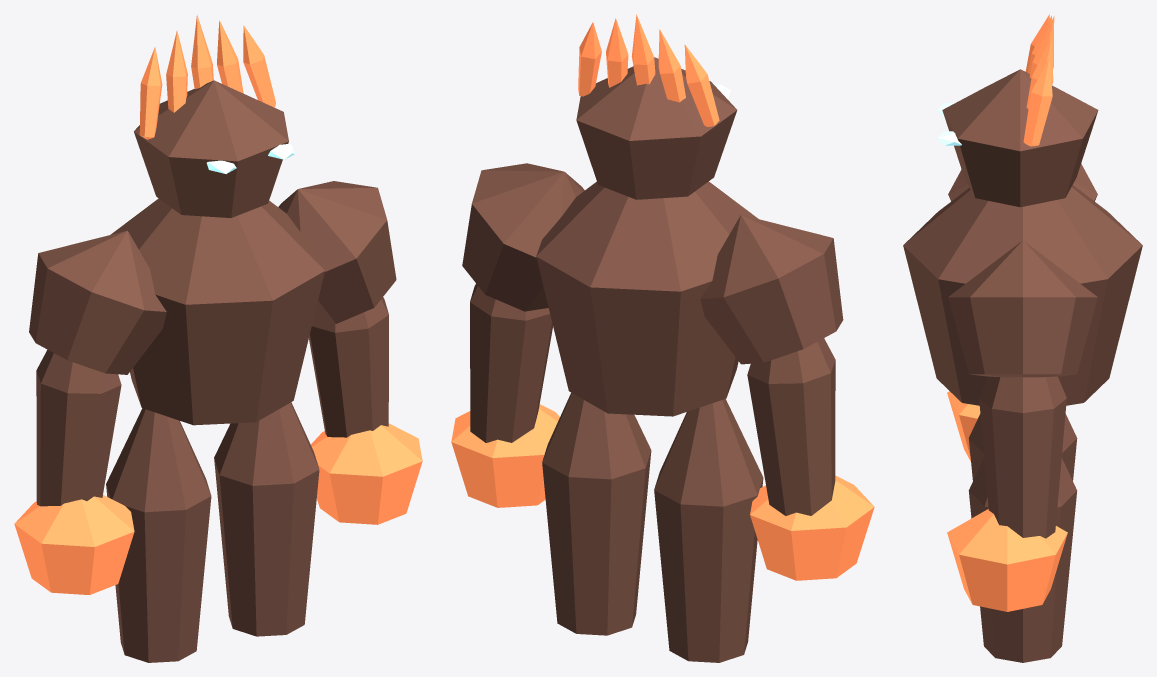
File: deep-fracture-creature-StoneGuardian-fire.glb
3 renders of one model, left to right at view 1: azimuth 30°, elevation 25°; view 2: azimuth 150°, elevation 25°; view 3: azimuth 270°, elevation 25°, orthographic. The views are drawn at different scales.
Parts seen in each view (by area): view 1: fortress-chest, gate-leg-left, gate-leg-right, crown, shoulder-left, pillar-arm-left, shoulder-right, fist-left, fist-right, pillar-arm-right, crown-spire0, crown-spire4 (+3 smaller); view 2: fortress-chest, gate-leg-left, gate-leg-right, shoulder-left, crown, pillar-arm-left, shoulder-right, pillar-arm-right, fist-left, fist-right, crown-spire0, crown-spire4 (+3 smaller); view 3: fortress-chest, shoulder-right, crown, pillar-arm-right, fist-right, gate-leg-right, crown-spire4, gate-leg-left, fist-left, shoulder-left, crown-spire3, crown-spire2.
Boxes of the visible parts, x1,y1,x2,y2 form: fortress-chest: [110, 198, 324, 425]; gate-leg-left: [106, 408, 211, 662]; gate-leg-right: [214, 402, 319, 636]; crown: [134, 80, 288, 217]; shoulder-left: [29, 230, 166, 374]; pillar-arm-left: [36, 349, 121, 506]; shoulder-right: [278, 181, 396, 323]; fist-left: [14, 495, 134, 594]; fist-right: [311, 423, 422, 524]; pillar-arm-right: [309, 297, 388, 437]; crown-spire0: [139, 47, 162, 139]; crown-spire4: [243, 25, 275, 107]; fortress-chest: [536, 181, 758, 416]; gate-leg-left: [654, 399, 763, 662]; gate-leg-right: [542, 392, 651, 635]; shoulder-left: [700, 215, 843, 364]; crown: [576, 57, 737, 199]; pillar-arm-left: [747, 338, 835, 515]; shoulder-right: [462, 163, 584, 311]; pillar-arm-right: [470, 283, 552, 442]; fist-left: [750, 475, 874, 580]; fist-right: [451, 404, 559, 507]; crown-spire0: [684, 44, 719, 126]; crown-spire4: [578, 22, 601, 96]; fortress-chest: [903, 185, 1142, 405]; shoulder-right: [948, 240, 1097, 377]; crown: [942, 69, 1098, 207]; pillar-arm-right: [979, 376, 1066, 538]; fist-right: [947, 509, 1067, 611]; gate-leg-right: [968, 458, 1077, 662]; crown-spire4: [1023, 57, 1052, 146]; gate-leg-left: [968, 414, 1077, 480]; fist-left: [947, 391, 980, 461]; shoulder-left: [948, 164, 1097, 201]; crown-spire3: [1026, 36, 1053, 109]; crown-spire2: [1029, 16, 1054, 78].
Size of the model in its own units: 3.47 by 5.27 by 1.86.
